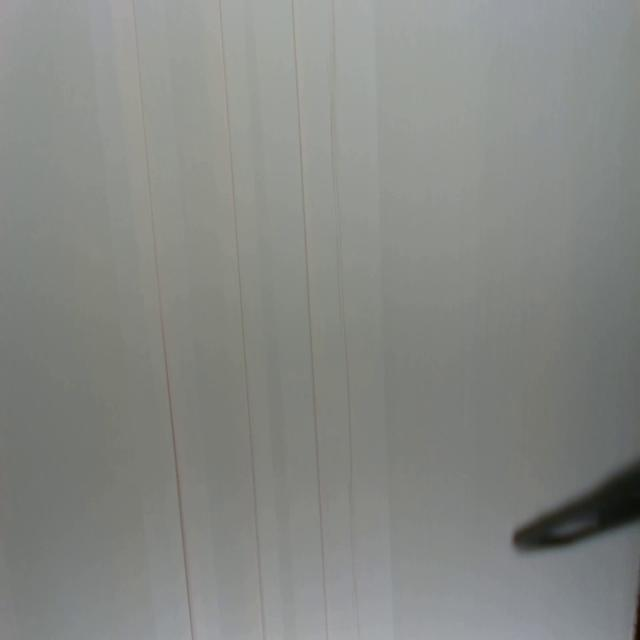crease: (132, 0, 196, 640), (218, 0, 268, 640), (290, 0, 329, 640), (329, 0, 362, 638)
